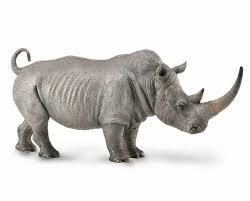Rhinoceroses: (11, 48, 242, 162)
